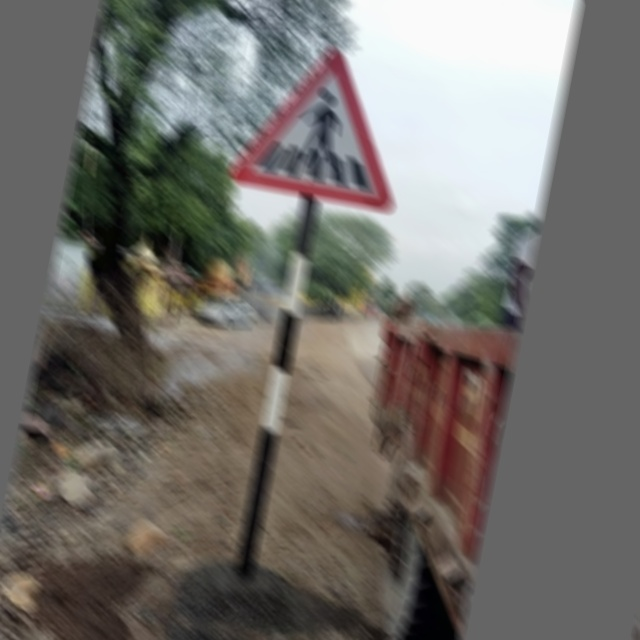Pedestrian_Crossing: (233, 23, 426, 216)
